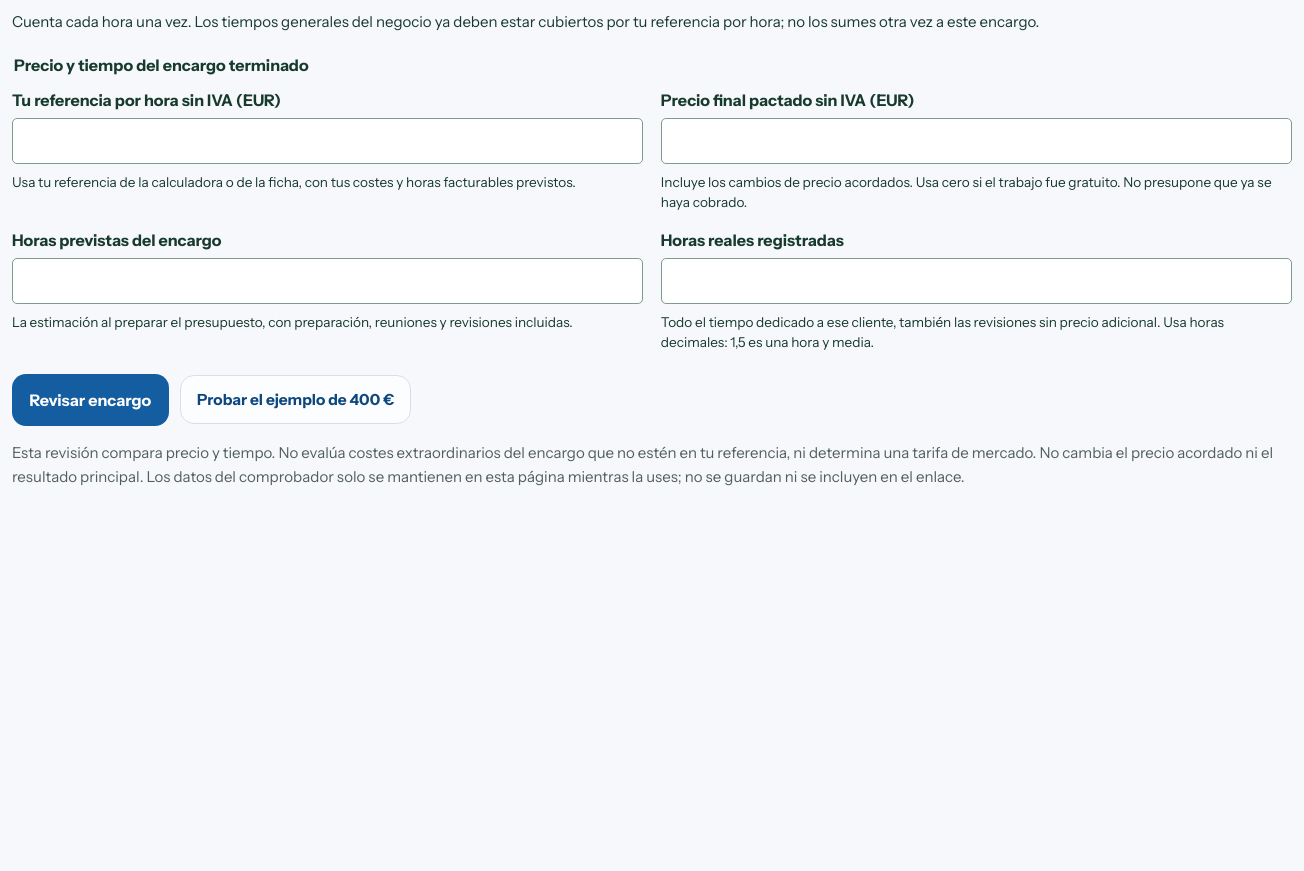
Scenario: completed project review editor › accepts an explicit free project and performs no tracking
The width and height of the screenshot is (1304, 871).
Click the button "Probar el ejemplo de 400 €" at (296, 400), box [180, 376, 411, 424]
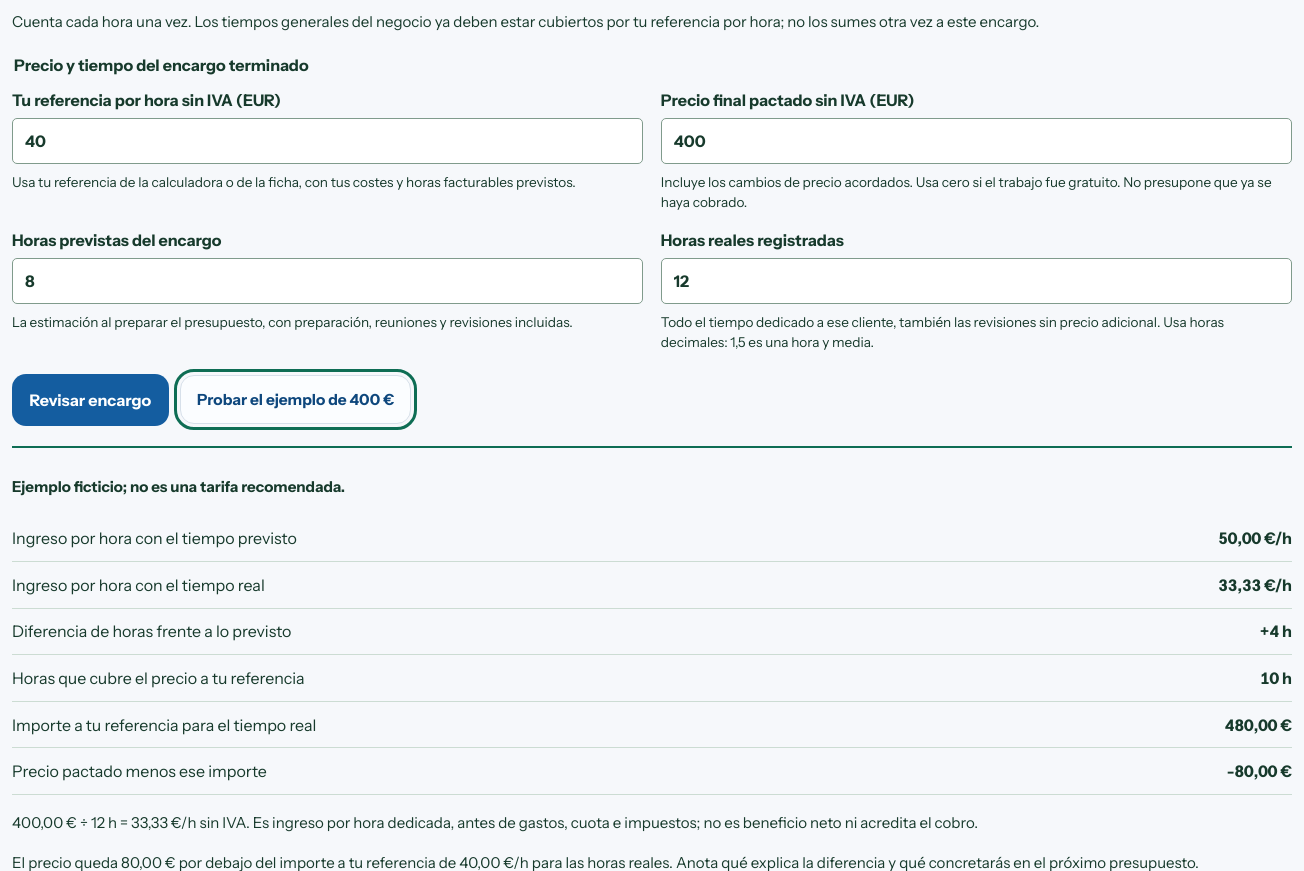
Replace the text in the field labelled "Precio final pactado sin IVA (EUR)" with "0" at (976, 141), box [661, 118, 1292, 164]
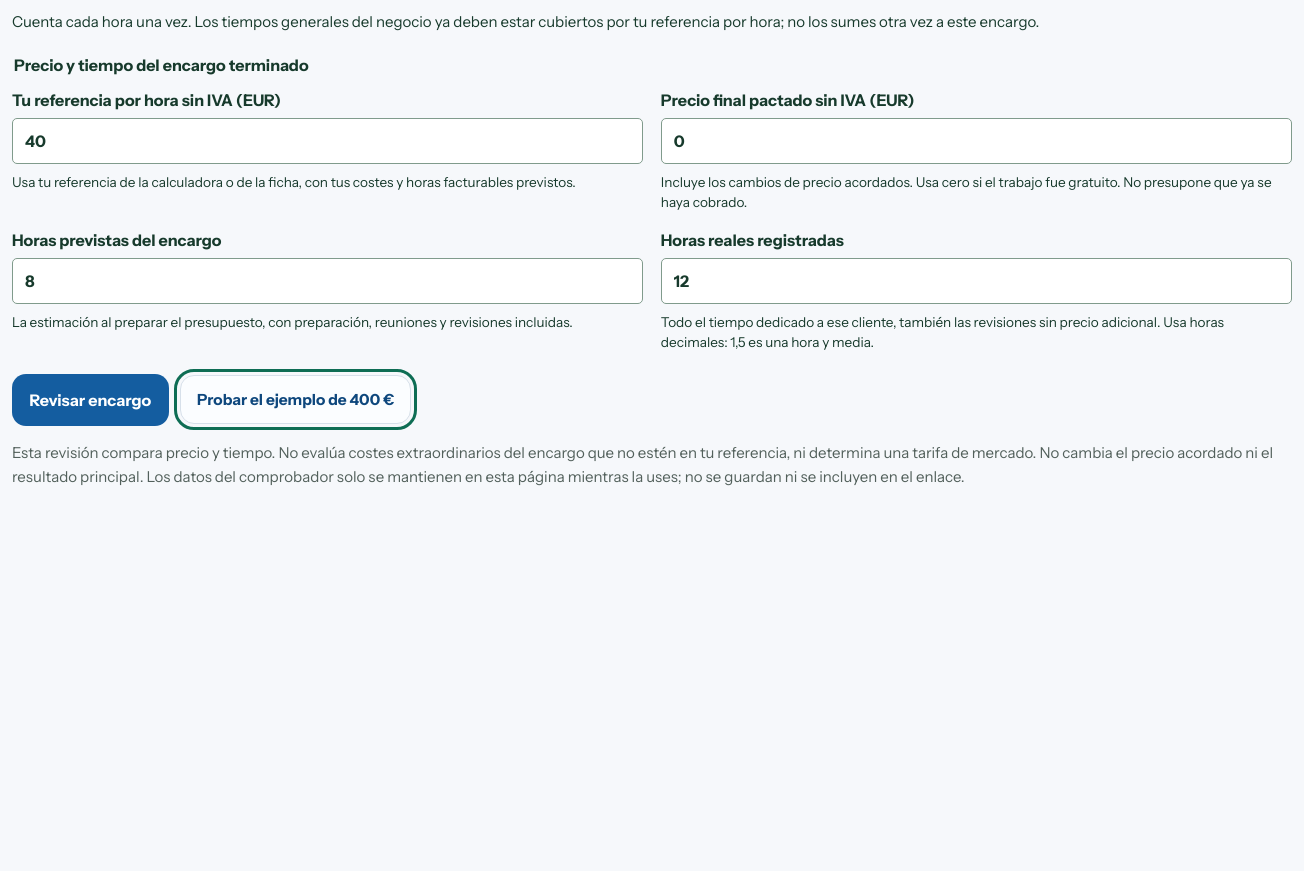
Click the button "Revisar encargo" at (90, 400), box [12, 374, 169, 426]
(page scrolled)
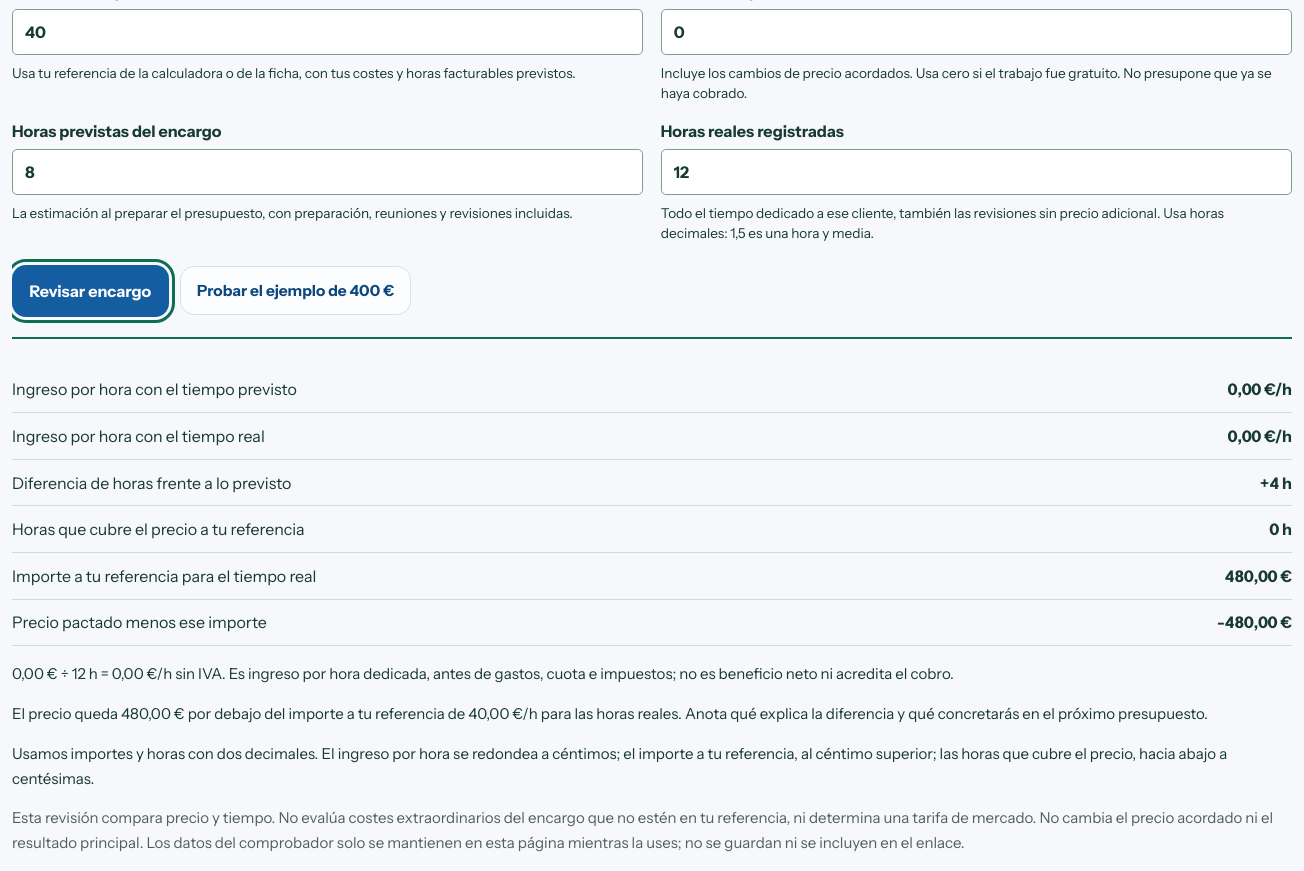
Result: the message named "Revisión del encargo" shows "0,00" at [1228, 379, 1275, 399]
Result: the message named "Revisión del encargo" shows "480,00" at [1225, 566, 1292, 586]
